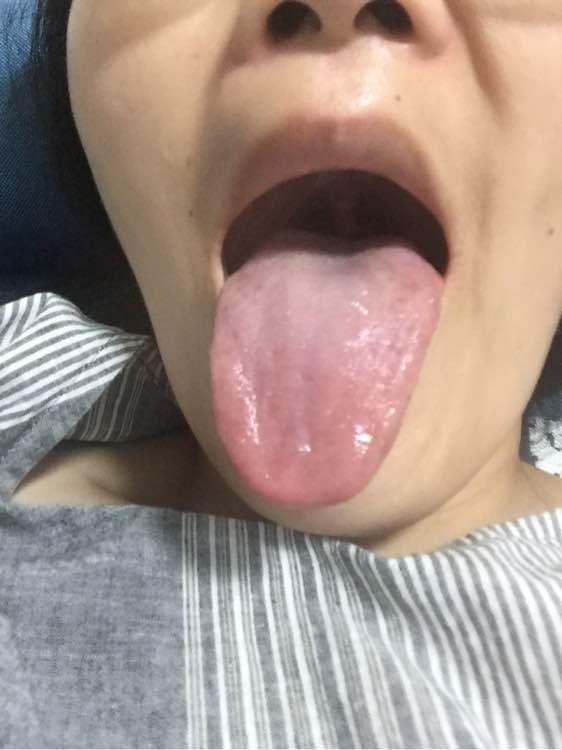baitaishe: (209, 228, 445, 507)
